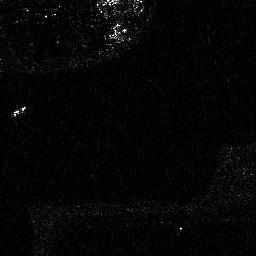ship: (9, 104, 31, 118)
